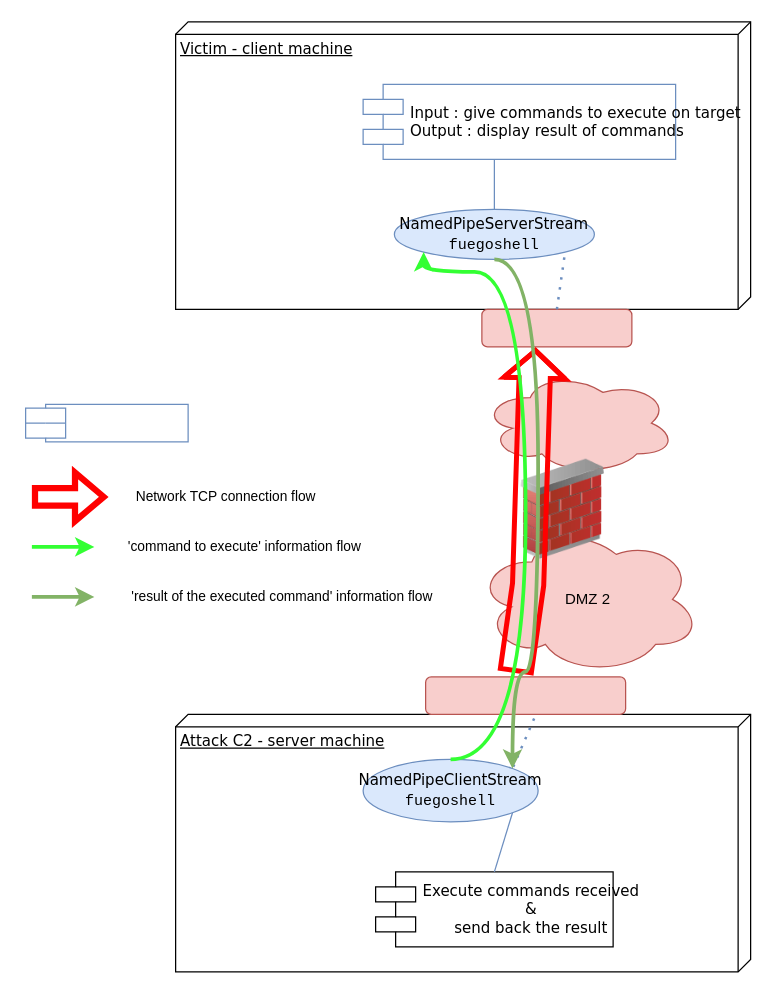
Image size: 773x994. Some labels were removed from this diagram. Each missing label, with the centre of its shape:
DMZ 1: the point at 578,422
powershell.exe: the point at 106,422
TCP DEST port 445: the point at 556,327
TCP SRC port (random): the point at 525,695
